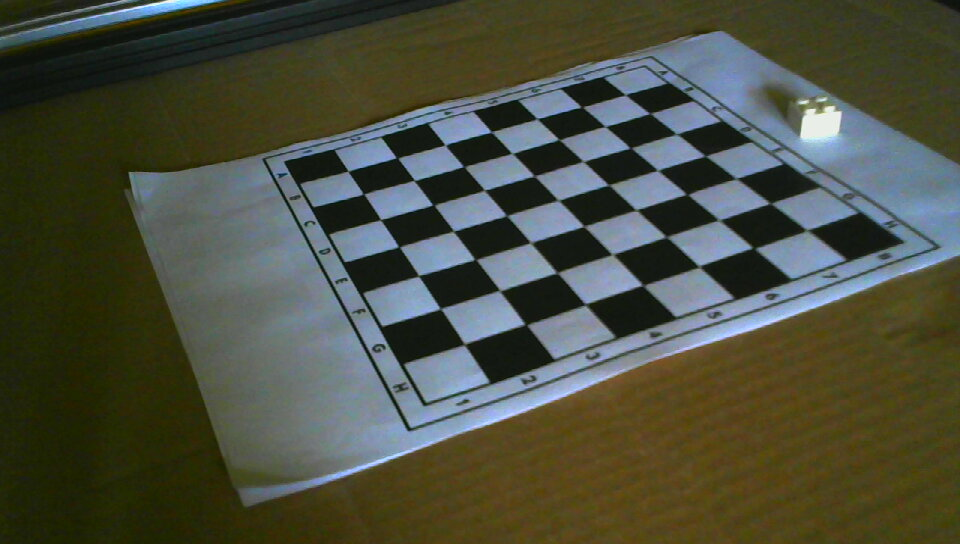wp: (789, 93, 843, 139)
